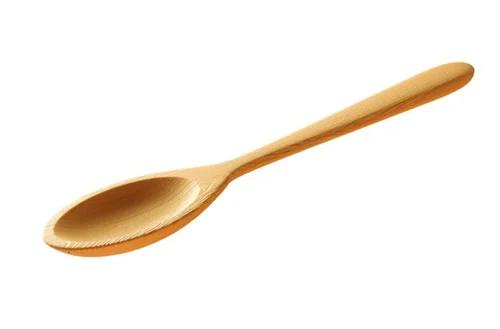Spoon: (45, 56, 475, 257)
